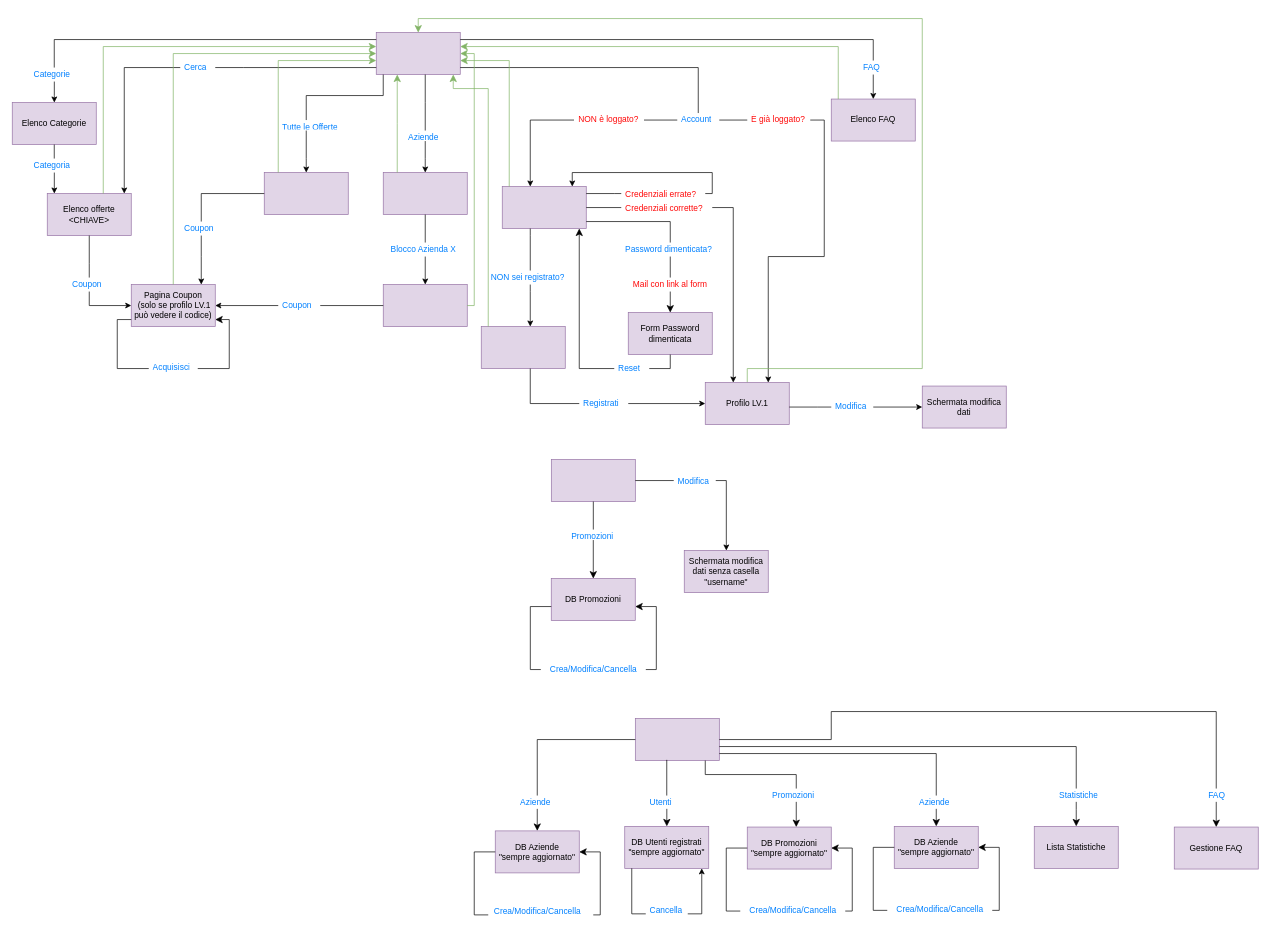
Image size: 1271x935. Some labels were removed from this diagram. The box of each missing label's shape, as (x1, y1, x2, y2) in pixels:
Elenco offerte <AZIENDA>: (264, 172, 348, 215)
Home: (376, 32, 460, 75)
Lista aziende: (383, 172, 467, 215)
Pagina azienda X (con lista coupon): (383, 284, 467, 327)
Profilo LV. 2: (551, 459, 635, 502)
Profilo LV. 3: (635, 718, 719, 761)
Schermata LogIn: (502, 186, 586, 229)
Schermata registrazione: (481, 326, 565, 369)
